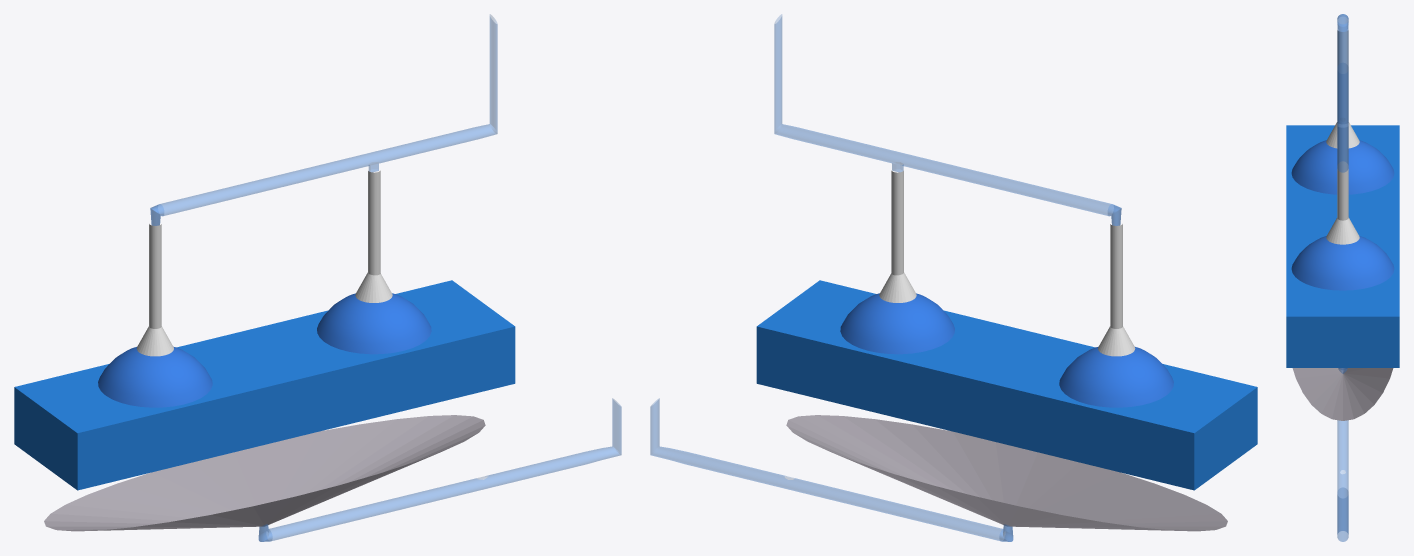
File: model3Oasen.gltf
The picture shows the model from 3 angles, left to right: view 1: azimuth 30°, elevation 25°; view 2: azimuth 150°, elevation 25°; view 3: azimuth 270°, elevation 25°; orthographic projection. The views are drawn at different scales.
Parts seen in each view (by area): view 1: Cube, Cone, Cylinder.001, Cylinder.004, Sphere.002, Sphere.001, Cylinder.002, Cylinder.003, Cone.002, Cone.001; view 2: Cube, Cone, Cylinder.001, Cylinder.004, Sphere.002, Sphere.001, Cylinder.002, Cylinder.003, Cone.002, Cone.001; view 3: Cube, Sphere.001, Cone, Sphere.002, Cylinder.001, Cylinder.004, Cylinder.002, Cylinder.003, Cone.001, Cone.002.
Boxes of the visible parts, x1,y1,x2,y2 form: Cube: [14, 280, 515, 490]; Cone: [44, 415, 485, 531]; Cylinder.001: [150, 14, 497, 225]; Cylinder.004: [258, 398, 621, 541]; Sphere.002: [98, 346, 212, 407]; Sphere.001: [317, 293, 431, 354]; Cylinder.002: [368, 170, 380, 275]; Cylinder.003: [149, 224, 161, 328]; Cone.002: [136, 326, 173, 356]; Cone.001: [355, 272, 392, 302]; Cube: [756, 280, 1257, 490]; Cone: [786, 415, 1227, 531]; Cylinder.001: [774, 14, 1121, 225]; Cylinder.004: [650, 398, 1013, 541]; Sphere.002: [1059, 346, 1173, 407]; Sphere.001: [840, 293, 954, 354]; Cylinder.002: [891, 170, 903, 275]; Cylinder.003: [1110, 224, 1122, 328]; Cone.002: [1098, 326, 1135, 356]; Cone.001: [879, 272, 916, 302]; Cube: [1286, 125, 1399, 367]; Sphere.001: [1291, 236, 1394, 290]; Cone: [1292, 368, 1393, 420]; Sphere.002: [1291, 140, 1394, 194]; Cylinder.001: [1337, 14, 1348, 172]; Cylinder.004: [1337, 368, 1348, 541]; Cylinder.002: [1337, 126, 1348, 220]; Cylinder.003: [1337, 30, 1348, 123]; Cone.001: [1326, 218, 1359, 244]; Cone.002: [1326, 122, 1359, 148].
Bounding box in the file's own units: 10.5 × 8.25 × 2.
